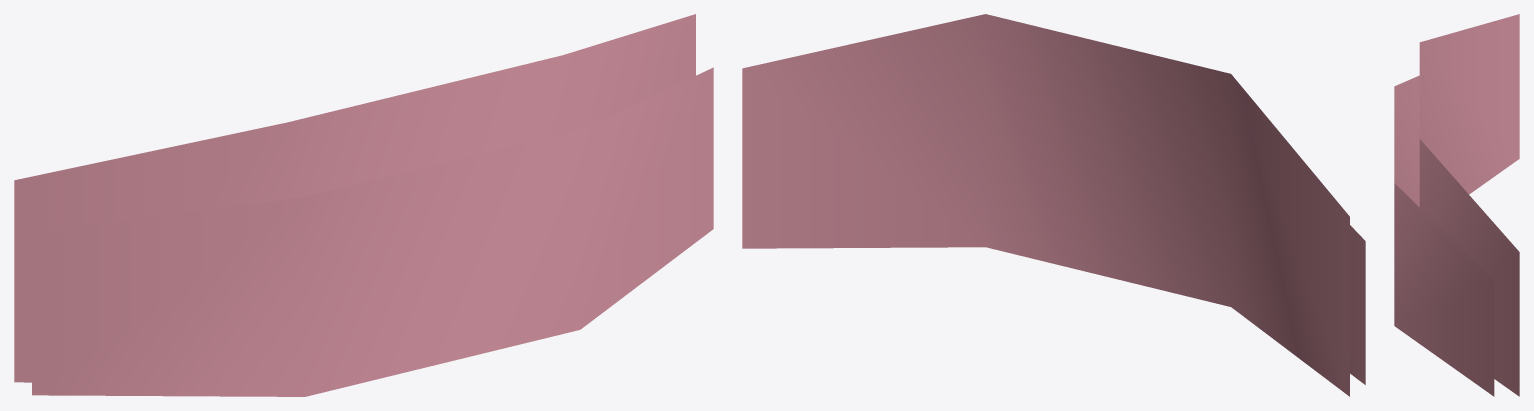
3 views of the same model, side by side, from view 1: azimuth 30°, elevation 25°; view 2: azimuth 150°, elevation 25°; view 3: azimuth 270°, elevation 25° (orthographic). The views are drawn at different scales.
Parts seen in each view (by area): view 1: Object52; view 2: Object52; view 3: Object52.
Part boxes in pixels (left/top/right/bottom): Object52: left=14, top=14, right=713, bottom=396; Object52: left=742, top=14, right=1365, bottom=396; Object52: left=1394, top=14, right=1519, bottom=396.
Size of the model in its own units: 1589 by 583 by 354.
